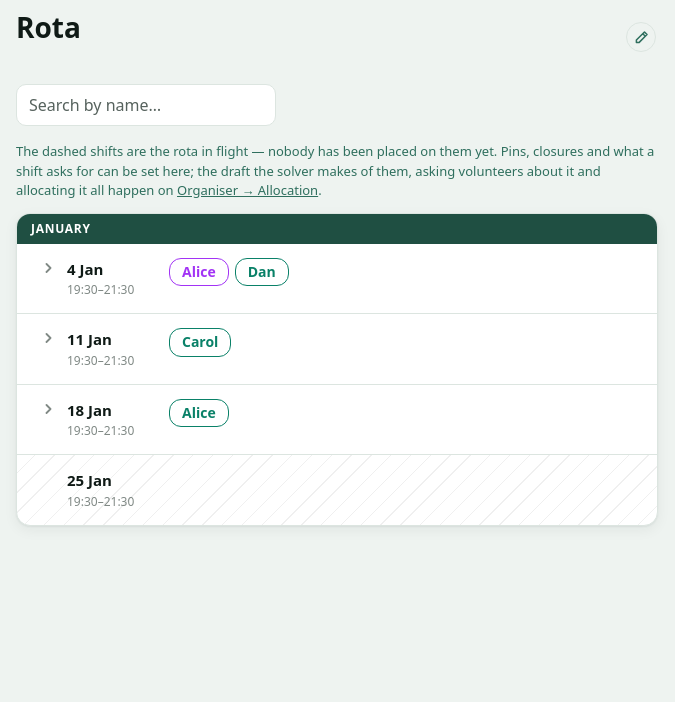
Test: RotaViewer access levels › an Organiser can pin, close, reshape and retime a shift of the rota in flight
This screenshot has width=675, height=702.
Click the button named "Edit rota". click: (641, 37)
box: [626,22,656,52]
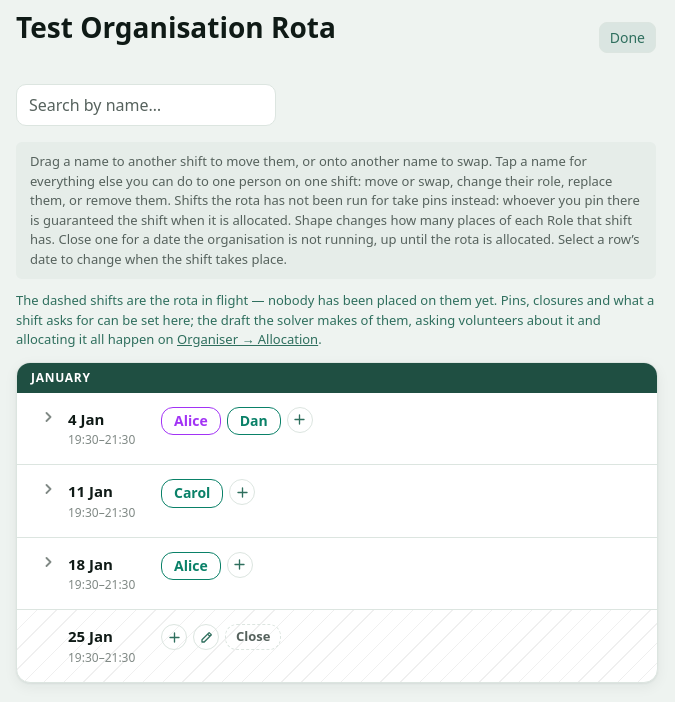
Check: the button named "Pin someone to" is shown, box [161,624,187,650]
Check: the button "Close" is shown, box [225,624,281,650]
